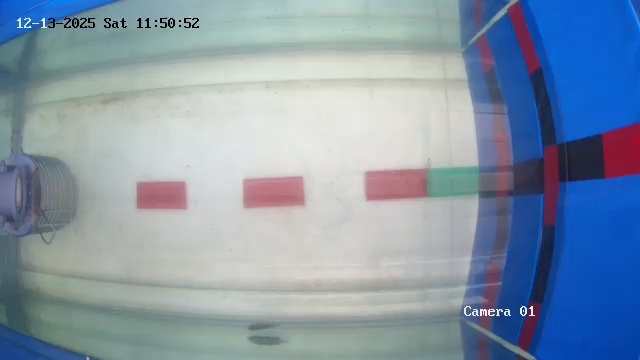fish: (236, 313, 279, 333)
